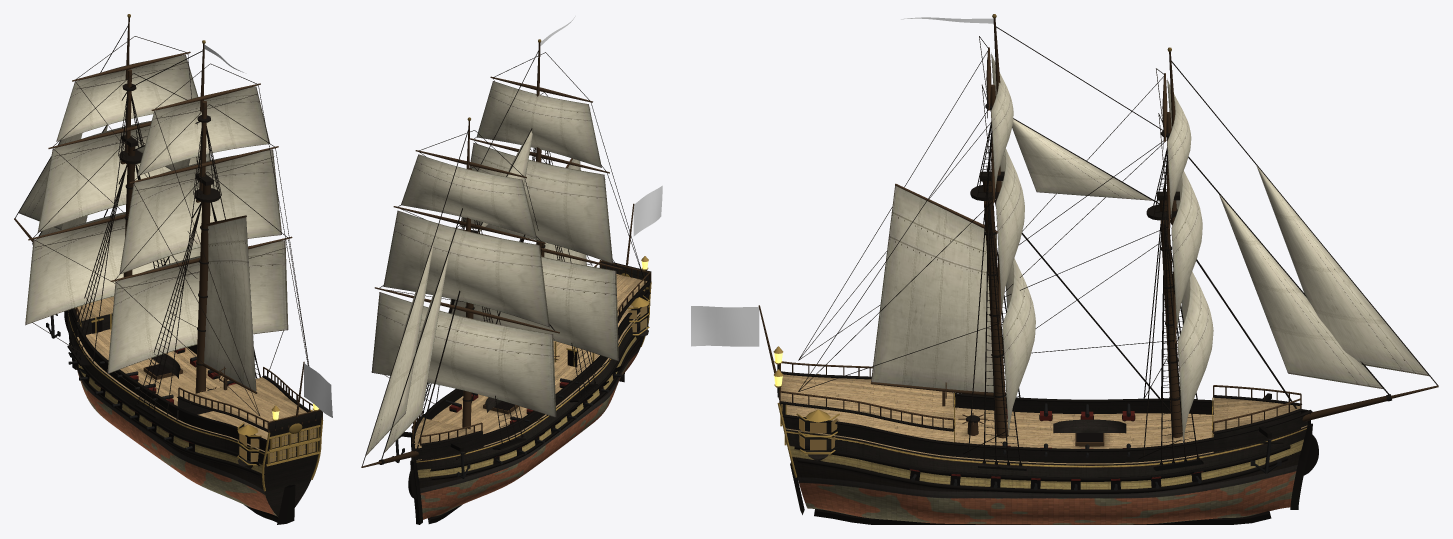
Rendered from brig.gltf.
The picture shows the model from 3 angles, left to right: view 1: azimuth 30°, elevation 25°; view 2: azimuth 150°, elevation 25°; view 3: azimuth 270°, elevation 25°; orthographic projection. The views are drawn at different scales.
Visible parts, largest first — view 1: Hull, Sail_1_0, Sail_1_1_E, Sail_0_0, Sail_spanker, Sail_0_1_E, Sail_1_2, Sail_0_2, Flag, Sail_jib_1; view 2: Hull, Sail_0_0, Sail_0_1_E, Sail_1_1_E, Sail_1_0, Sail_0_2, Sail_1_2, Sail_jib_1, Sail_jib_0, Flag, Sail_stay_1, Sail_spanker; view 3: Hull, Sail_spanker, Sail_jib_1, Sail_jib_0, Sail_stay_1, Sail_0_0, Sail_1_0, Flag, Sail_0_1_E, Sail_1_1_E, Sail_0_2, Sail_1_2.
Part boxes in pixels (<box>): Hull: <box>14,14,323,524</box>; Sail_1_0: <box>107,240,288,373</box>; Sail_1_1_E: <box>119,149,281,273</box>; Sail_0_0: <box>25,212,200,325</box>; Sail_spanker: <box>204,216,256,392</box>; Sail_0_1_E: <box>37,120,209,232</box>; Sail_1_2: <box>137,86,269,176</box>; Sail_0_2: <box>56,54,198,141</box>; Flag: <box>304,363,332,417</box>; Sail_jib_1: <box>19,133,82,229</box>; Hull: <box>361,39,651,524</box>; Sail_0_0: <box>371,292,556,417</box>; Sail_0_1_E: <box>383,210,549,327</box>; Sail_1_1_E: <box>460,143,612,263</box>; Sail_1_0: <box>450,256,618,361</box>; Sail_0_2: <box>401,154,536,238</box>; Sail_1_2: <box>476,81,601,167</box>; Sail_jib_1: <box>366,240,434,455</box>; Sail_jib_0: <box>384,252,449,452</box>; Flag: <box>633,185,662,236</box>; Sail_stay_1: <box>478,131,532,233</box>; Sail_spanker: <box>544,158,586,265</box>; Hull: <box>758,14,1438,524</box>; Sail_spanker: <box>871,185,996,392</box>; Sail_jib_1: <box>1256,165,1429,376</box>; Sail_jib_0: <box>1219,194,1383,389</box>; Sail_stay_1: <box>1012,119,1151,200</box>; Sail_0_0: <box>1177,271,1213,443</box>; Sail_1_0: <box>1002,258,1035,435</box>; Flag: <box>691,306,759,346</box>; Sail_0_1_E: <box>1171,171,1202,330</box>; Sail_1_1_E: <box>996,148,1024,312</box>; Sail_0_2: <box>1167,79,1191,217</box>; Sail_1_2: <box>991,53,1013,191</box>.
Size of the model in its own units: 18.08 by 38.25 by 50.73.
Materials: 18 (4 with a texture image).
